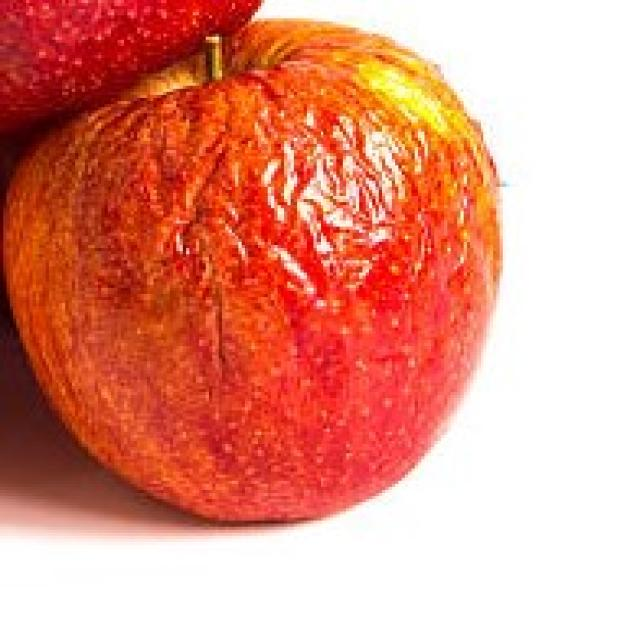overripe: (0, 12, 511, 532)
